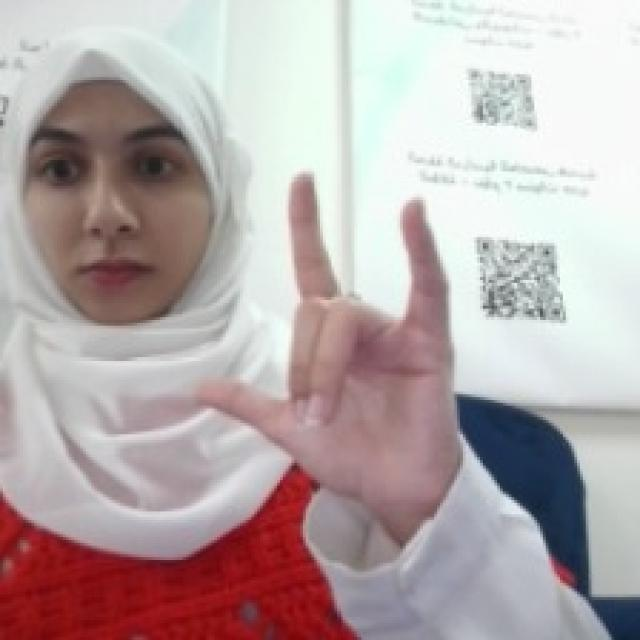love: (188, 163, 463, 500)
